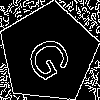G: (23, 28, 82, 85)
